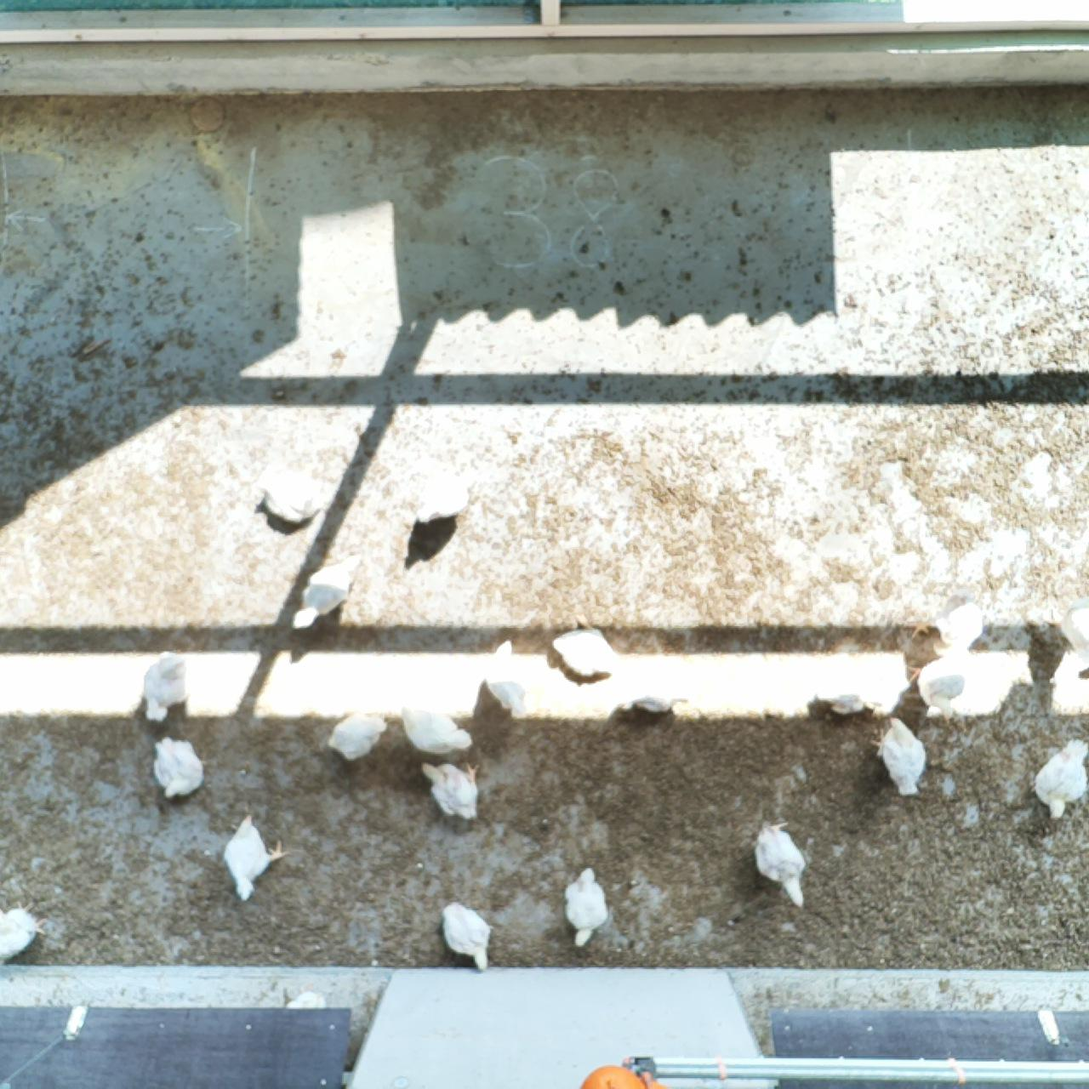chicken: (220, 809, 291, 903), (290, 550, 366, 636), (904, 653, 992, 724), (746, 817, 812, 910), (251, 454, 328, 527), (866, 714, 931, 800), (547, 612, 628, 681), (901, 590, 988, 653), (1029, 737, 1089, 821), (557, 863, 611, 949), (398, 699, 478, 756), (478, 634, 530, 721), (438, 897, 497, 973), (419, 756, 485, 821), (412, 465, 480, 528), (150, 733, 210, 800), (140, 650, 191, 722), (326, 711, 391, 766), (614, 671, 690, 718), (1041, 588, 1089, 661), (0, 898, 50, 963), (812, 676, 886, 718)
